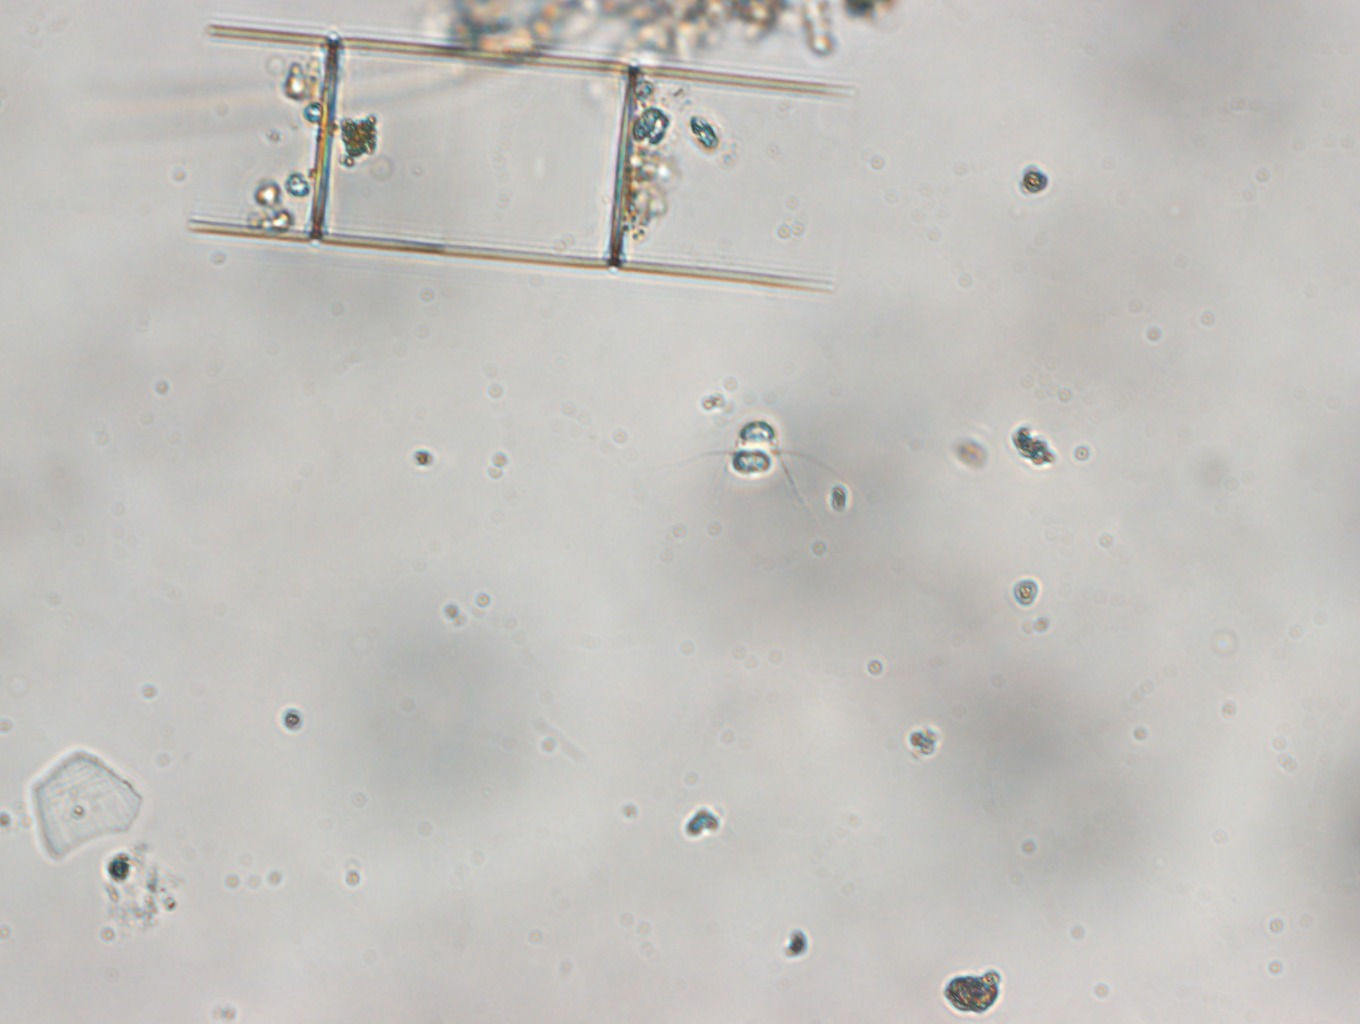chaetoceros: (679, 417, 841, 508)
guinardia flaccida: (188, 24, 851, 300)
